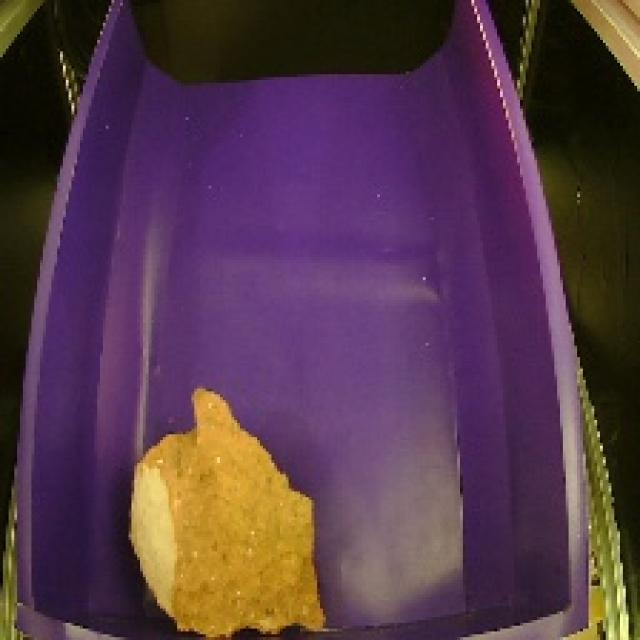brick: (112, 378, 337, 640)
